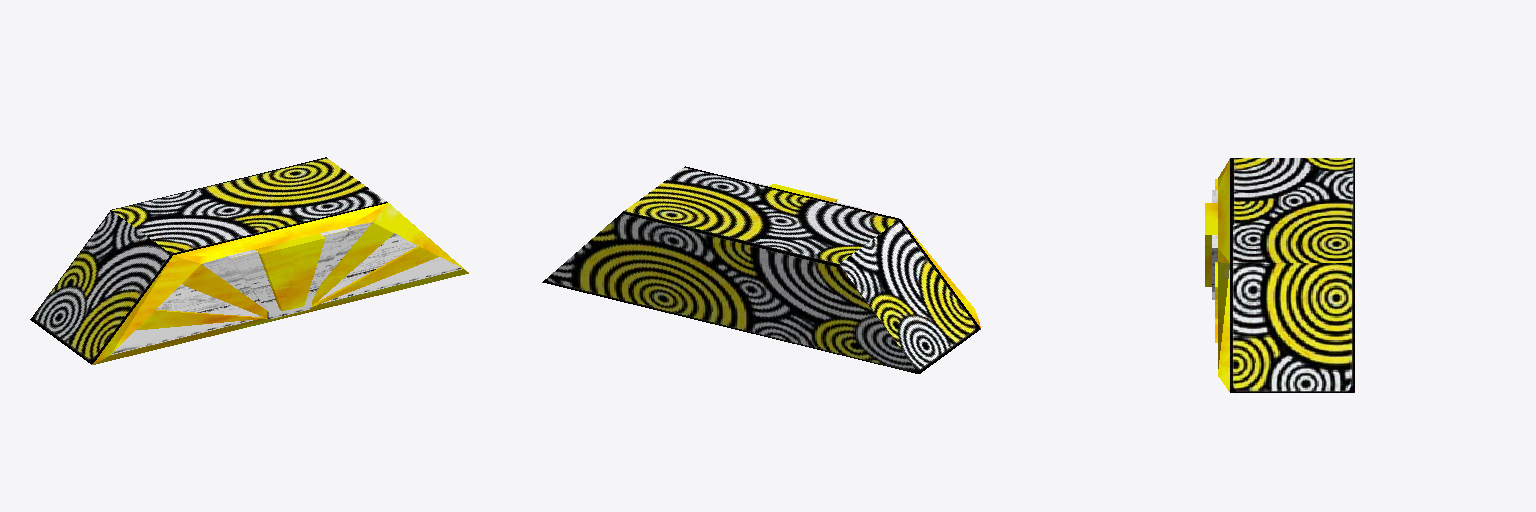
The picture shows the model from 3 angles: view 1: azimuth 30°, elevation 25°; view 2: azimuth 150°, elevation 25°; view 3: azimuth 270°, elevation 25°; orthographic projection.
Visible parts, largest first — view 1: Mesh1 Model; view 2: Mesh1 Model; view 3: Mesh1 Model.
Boxes of the visible parts, x1=… form: Mesh1 Model: x1=30, y1=157, x2=468, y2=364; Mesh1 Model: x1=542, y1=166, x2=980, y2=373; Mesh1 Model: x1=1205, y1=158, x2=1354, y2=392.
Bounding box in the file's own units: 3.5 × 0.8 × 1.2.
1 materials, 1 textured.